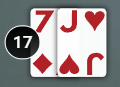7: (31, 9, 57, 34)
j: (58, 9, 82, 34)
